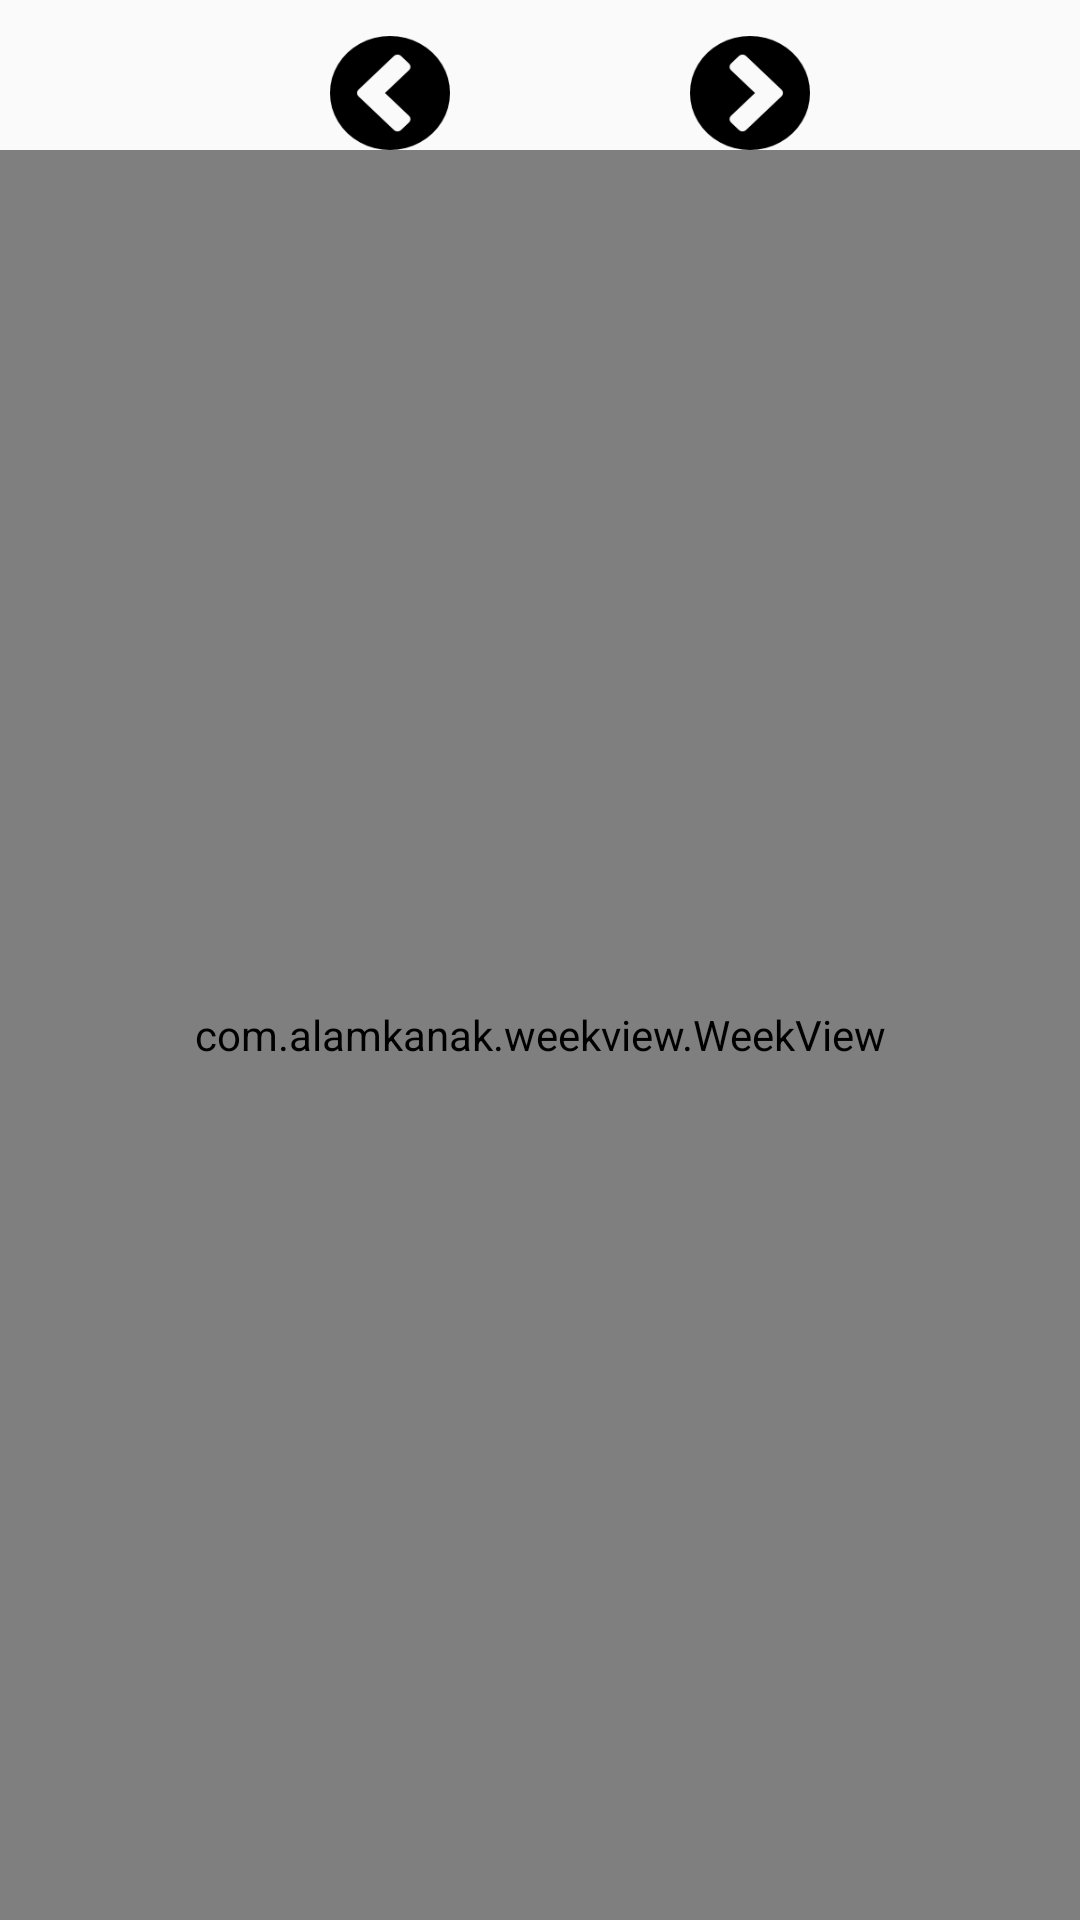

Icons on this 1080×1920 Android screen, each with the point to tap as point (x, y):
signleft: point (390, 93)
signright: point (750, 93)
